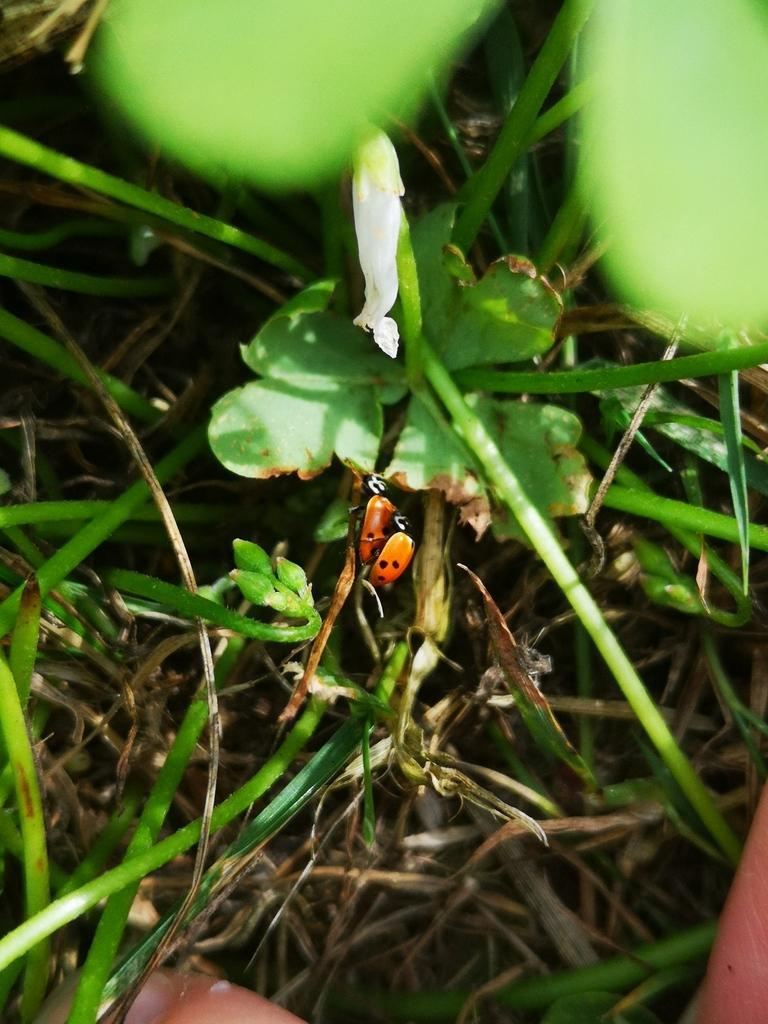ladybug: (347, 474, 401, 568), (362, 510, 419, 590)
